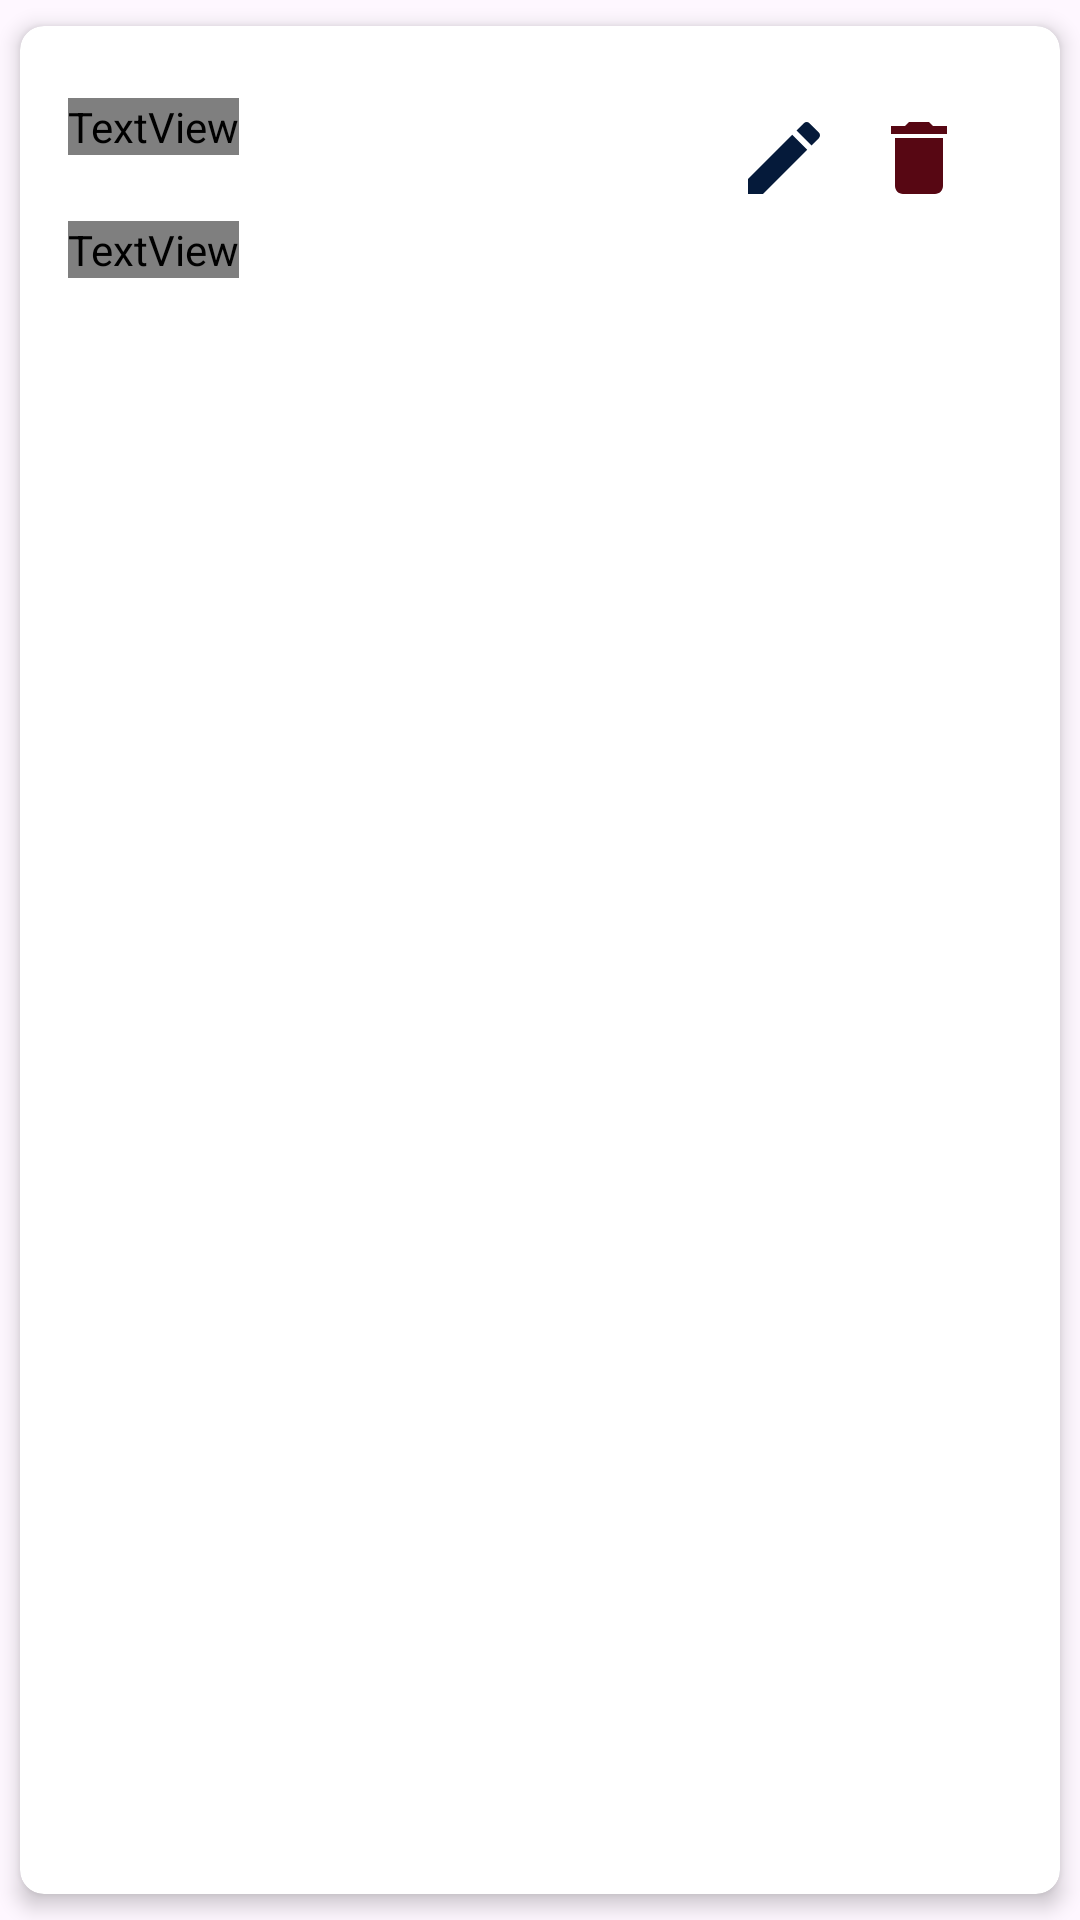

Icon click points for this 1080x1920 phone screenshot, format (x,y):
create: (784,158)
delete: (919,158)
